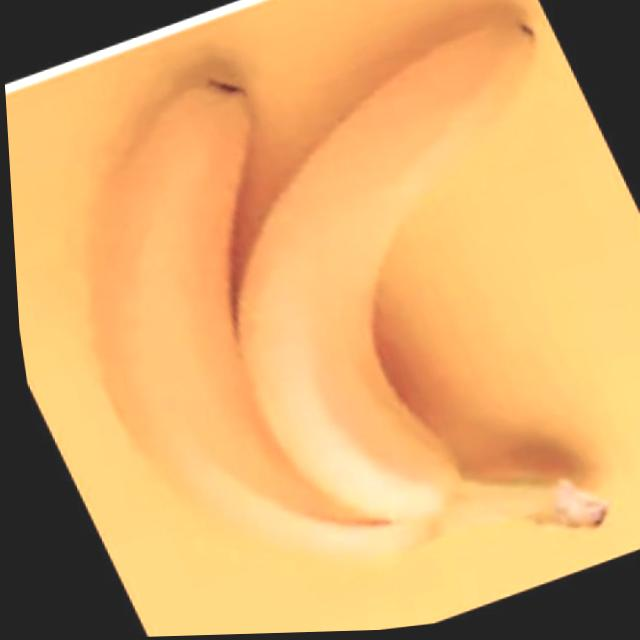Banana: (56, 32, 606, 589)
